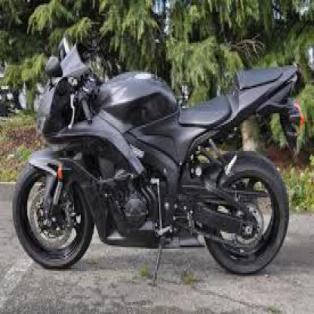Motocicleta: (5, 41, 299, 281)
